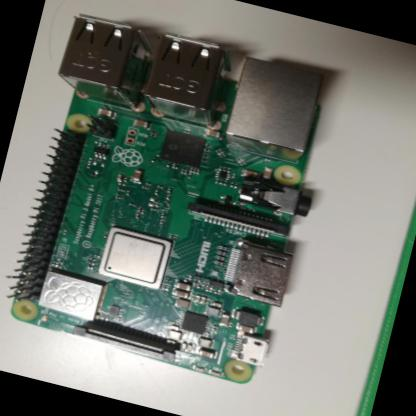Raspberry_Pi_3: (1, 1, 350, 399)
